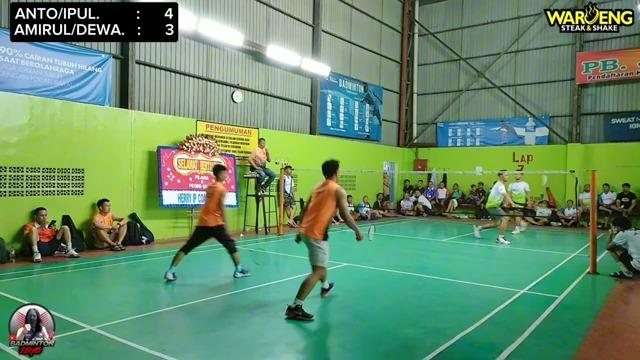Shuttlecock: (540, 176, 548, 184)
